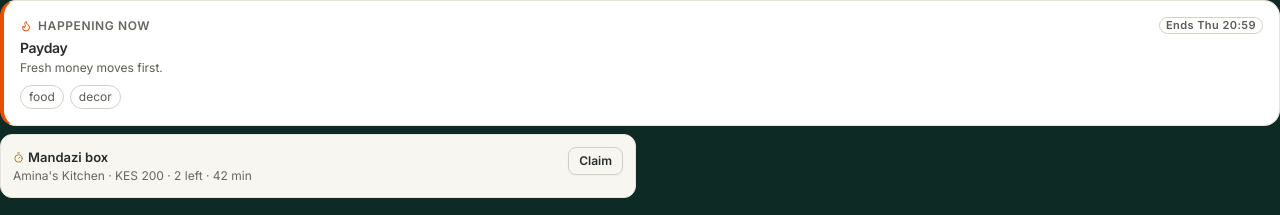
Test: Pulse strip › shows the active terracotta window and claims one live drop
The width and height of the screenshot is (1280, 215).
Check: the heading "Payday" is shown, box [20,39,67,56]
Check: the element with test id "pulse-window" has style "borderLeftColor: #E65100", box [0,0,1279,126]
Click the button "Claim" at (596, 161), box [568,147,623,175]
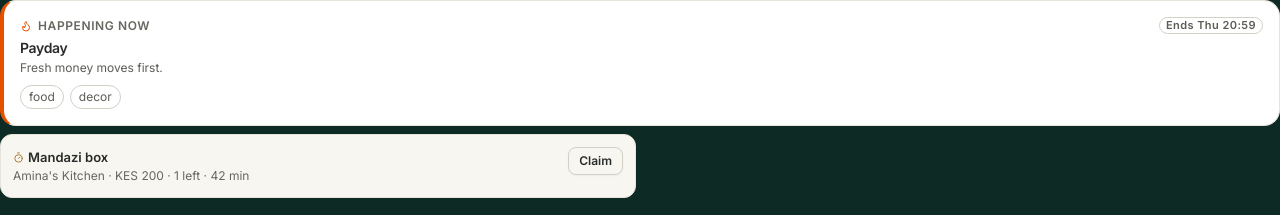
Check: the text "Amina's Kitchen · KES 200 · 1 left · 42 min" is shown, box [13,167,249,185]
